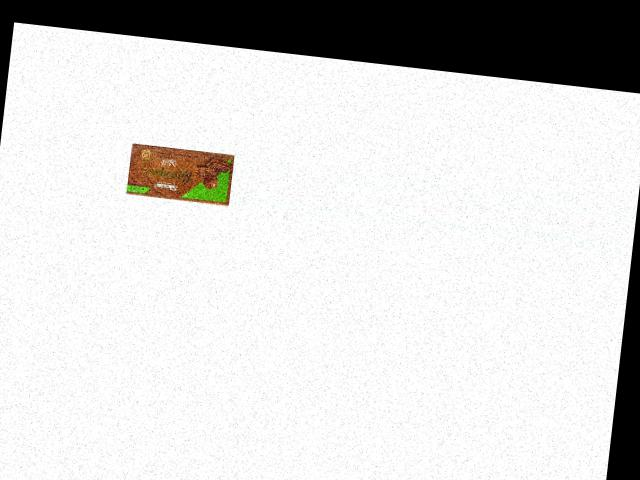chocolate: (122, 140, 235, 210)
